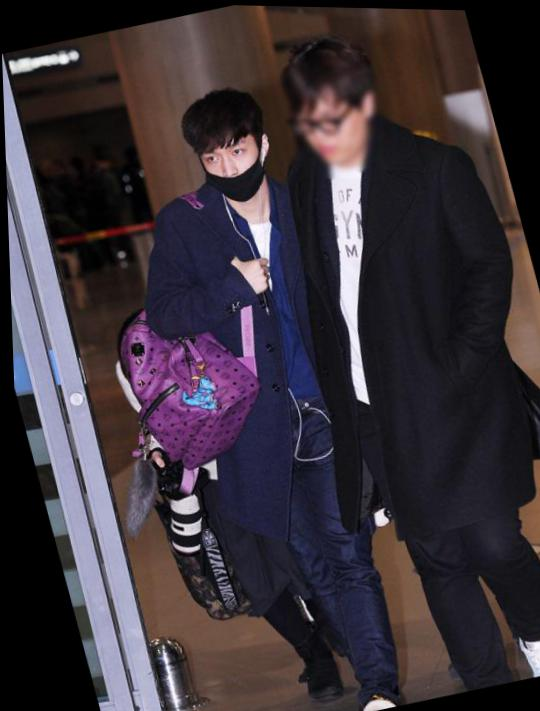NONE: (292, 85, 376, 168)
WRONG: (195, 124, 280, 207)
